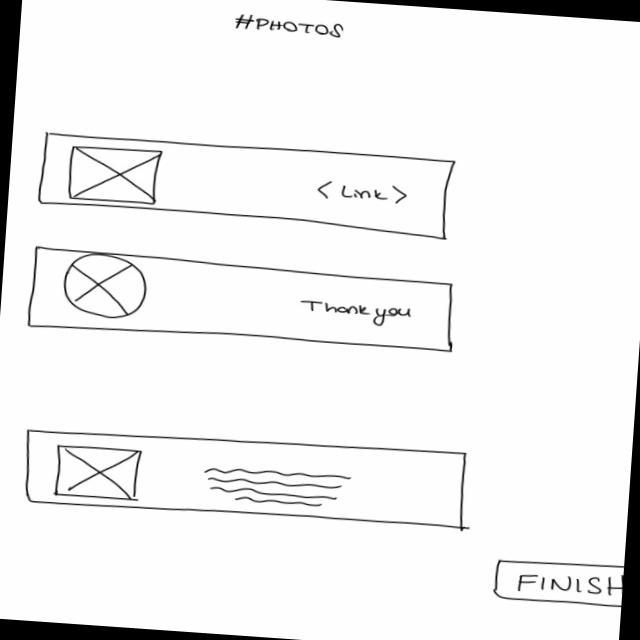button: (490, 554, 625, 610)
container: (20, 422, 474, 534), (23, 243, 462, 358), (34, 129, 463, 245)
image: (61, 252, 153, 323), (66, 144, 162, 207), (51, 443, 144, 503)
label: (297, 298, 415, 331), (231, 11, 348, 44), (315, 179, 412, 209)
textbox: (201, 464, 355, 511)
